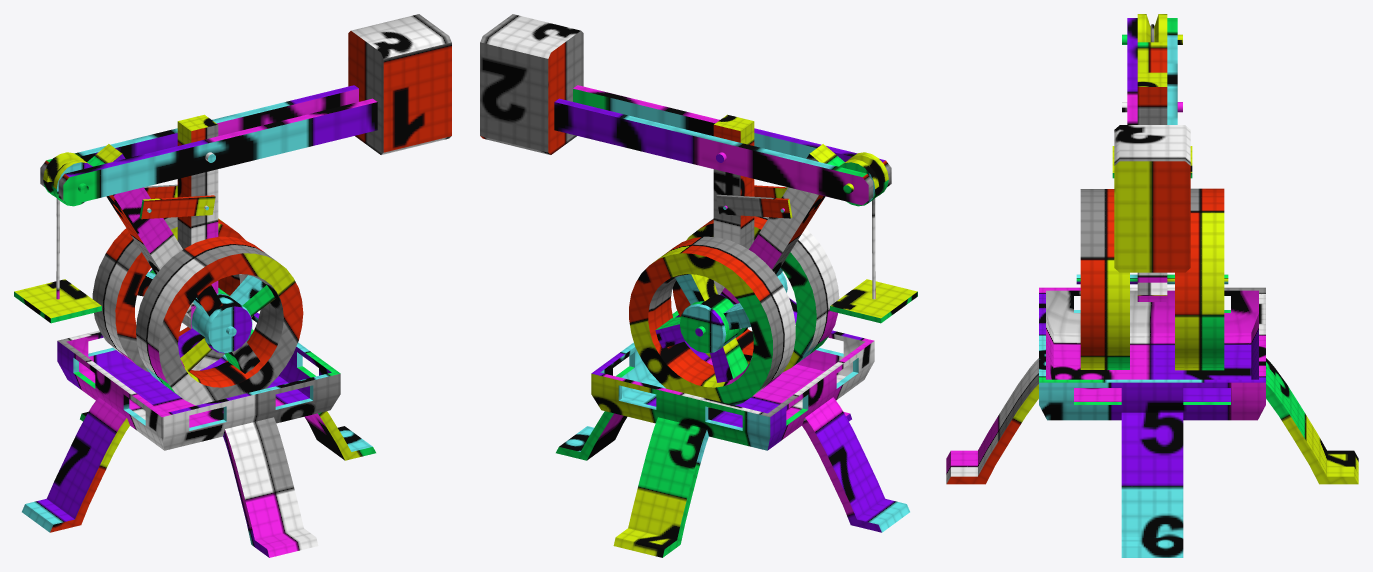
File: MINIERA.FBX
3 views of the same model, side by side, from view 1: azimuth 30°, elevation 25°; view 2: azimuth 150°, elevation 25°; view 3: azimuth 270°, elevation 25° (orthographic). The views are drawn at different scales.
Parts seen in each view (by area): view 1: Line001; view 2: Line001; view 3: Line001.
Boxes of the visible parts, x1,y1,x2,y2 form: Line001: (14,14,451,557); Line001: (480,14,917,557); Line001: (946,14,1358,557).
Size of the model in its own units: 225 by 214 by 184.
Materials: 1 (1 with a texture image).
